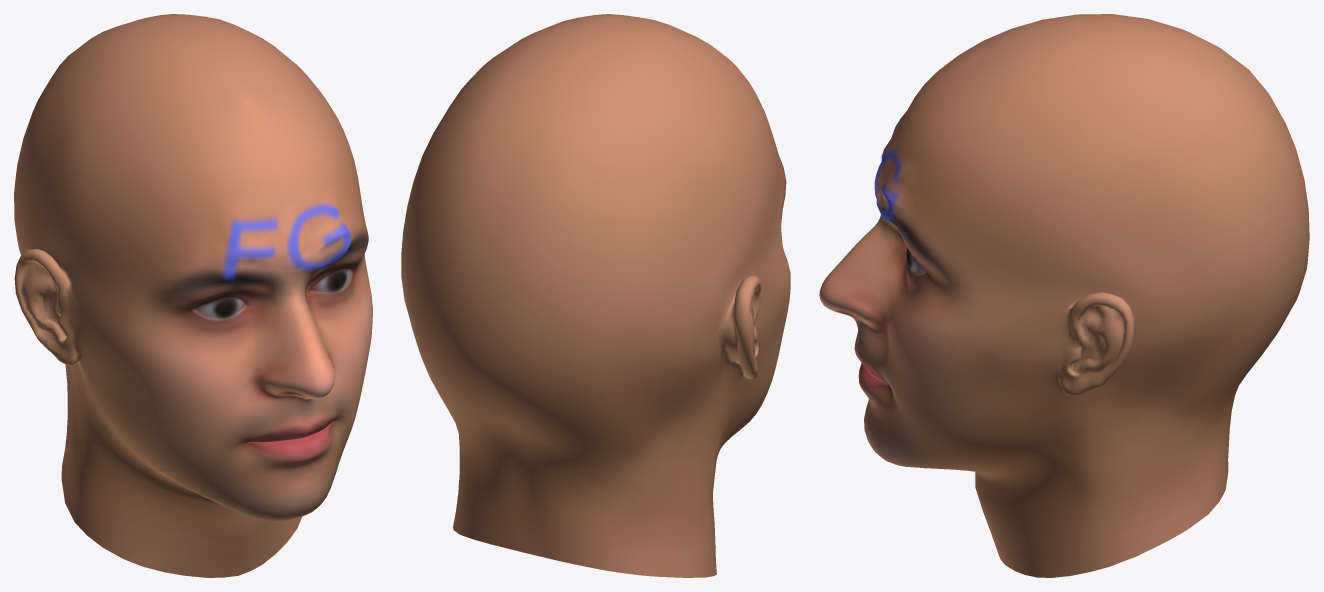
The model's file is avg_southasian_anysex.obj.
3 renders of one model, left to right at view 1: azimuth 30°, elevation 25°; view 2: azimuth 150°, elevation 25°; view 3: azimuth 270°, elevation 25°, orthographic. The views are drawn at different scales.
Parts seen in each view (by area): view 1: HeadHires; view 2: HeadHires; view 3: HeadHires.
Part boxes in pixels (x1,y1,x2,y2): HeadHires: (14, 14, 372, 577); HeadHires: (401, 14, 790, 577); HeadHires: (819, 14, 1309, 577).
Size of the model in its own units: 187 by 283 by 240.
1 material, 1 textured.
